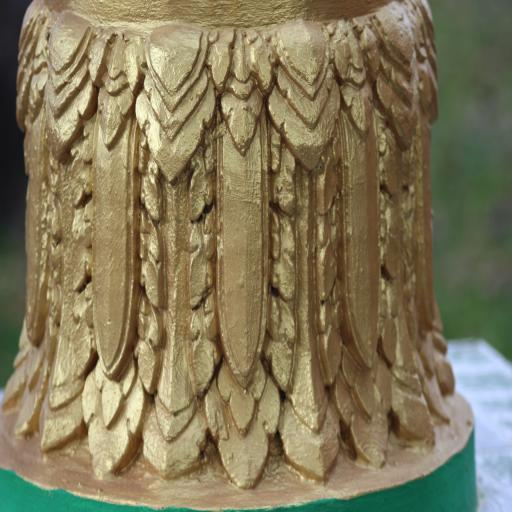la: (271, 16, 352, 484), (210, 16, 286, 494), (140, 24, 218, 482), (361, 14, 440, 454), (36, 22, 106, 461), (83, 26, 149, 475), (342, 15, 395, 477), (9, 4, 63, 447)
